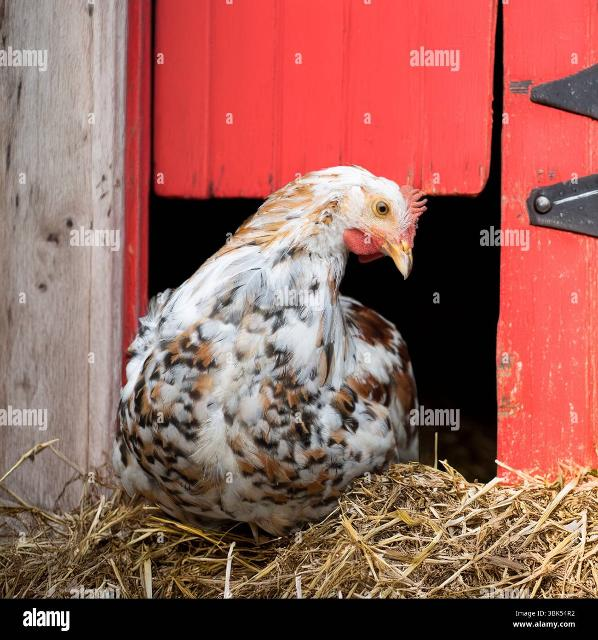Chicken: (118, 161, 429, 537)
